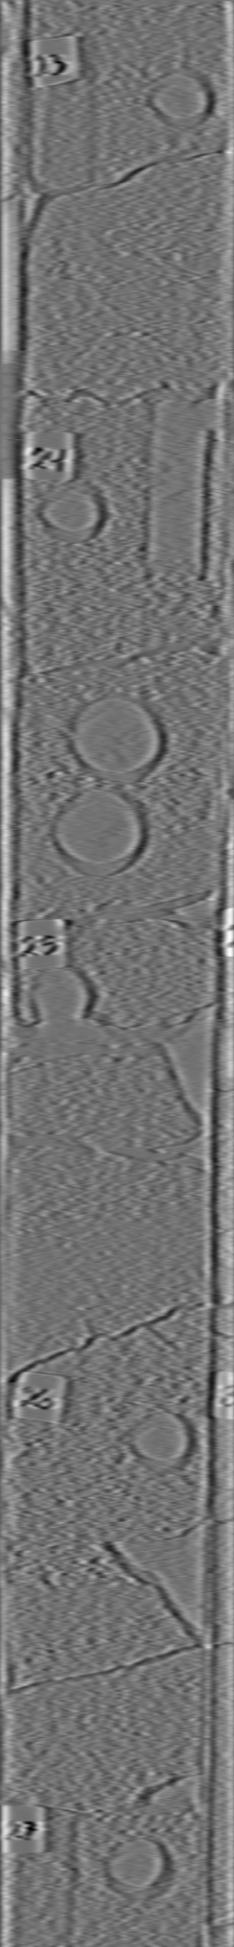hplug: (118, 1396, 200, 1483), (138, 62, 222, 137), (34, 472, 115, 548), (100, 1832, 178, 1906), (26, 960, 100, 1026)
scal: (66, 685, 178, 788), (46, 788, 162, 882)
vplug: (142, 380, 214, 594), (30, 1, 106, 187), (7, 1805, 82, 1947)
